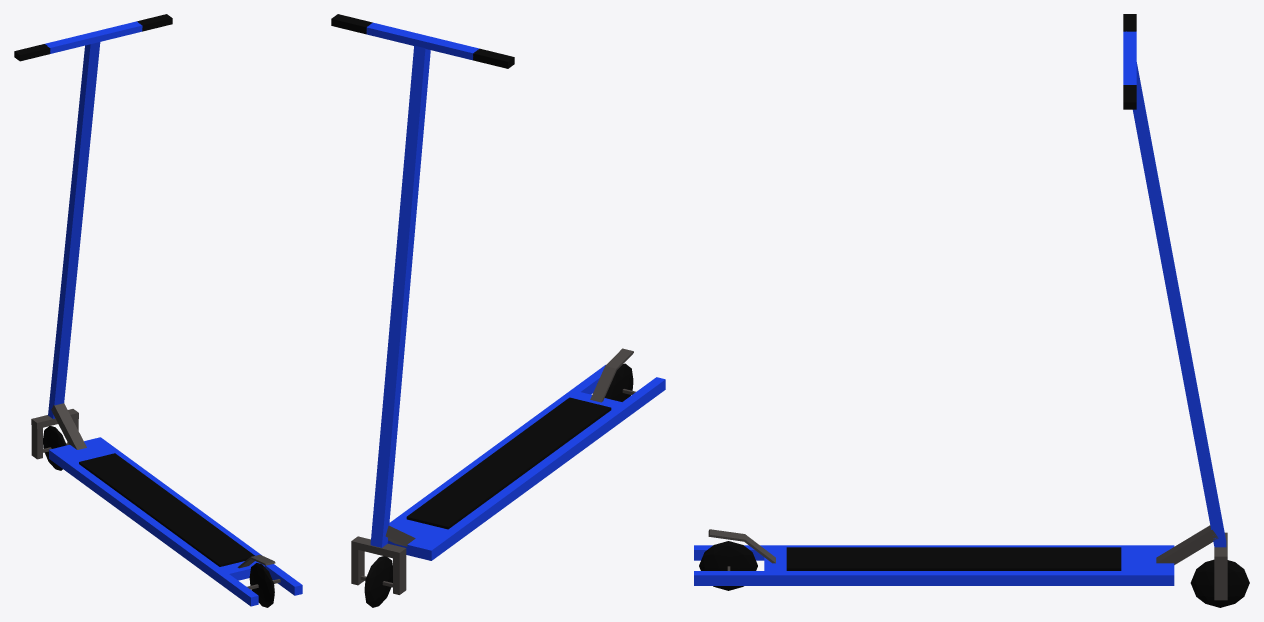
The model's file is scooter.obj.
3 views of the same model, side by side, from view 1: azimuth 30°, elevation 25°; view 2: azimuth 150°, elevation 25°; view 3: azimuth 270°, elevation 25° (orthographic). The views are drawn at different scales.
Visible parts, largest first — view 1: Cube, Cube.001, Cube.010_Cube.011, Cube.007, Icosphere.001_Icosphere.002, Cube.002, Icosphere, Cube.009; view 2: Cube.001, Cube, Cube.010_Cube.011, Cube.007, Icosphere, Cube.012_Cube.015, Icosphere.001_Icosphere.002, Cube.003, Cube.009, Cube.005, Cube.008, Cube.004; view 3: Cube, Cube.010_Cube.011, Cube.001, Icosphere, Icosphere.001_Icosphere.002, Cube.002, Cube.007.
Boxes of the visible parts, box(x1,y1,x2,y2) form: Cube: box(49, 437, 302, 606); Cube.001: box(48, 42, 100, 418); Cube.010_Cube.011: box(79, 453, 254, 566); Cube.007: box(45, 21, 142, 53); Icosphere.001_Icosphere.002: box(249, 563, 274, 607); Cube.002: box(51, 403, 86, 449); Icosphere: box(43, 426, 66, 470); Cube.009: box(14, 44, 50, 61); Cube.001: box(370, 45, 430, 547); Cube: box(387, 365, 665, 560); Cube.010_Cube.011: box(406, 397, 611, 529); Cube.007: box(366, 22, 479, 60); Icosphere: box(364, 556, 392, 607); Cube.012_Cube.015: box(590, 348, 633, 402); Icosphere.001_Icosphere.002: box(605, 363, 633, 401); Cube.003: box(351, 536, 406, 559); Cube.009: box(473, 48, 514, 68); Cube.005: box(393, 551, 406, 594); Cube.008: box(331, 14, 372, 34); Cube.004: box(351, 545, 364, 585); Cube: box(694, 545, 1174, 585); Cube.010_Cube.011: box(786, 547, 1121, 570); Cube.001: box(1133, 62, 1226, 547); Icosphere: box(1190, 559, 1249, 607); Icosphere.001_Icosphere.002: box(699, 541, 757, 590); Cube.002: box(1156, 525, 1218, 564); Cube.007: box(1123, 31, 1136, 84).
Size of the model in its own units: 1.97 by 5.7 by 5.22.
